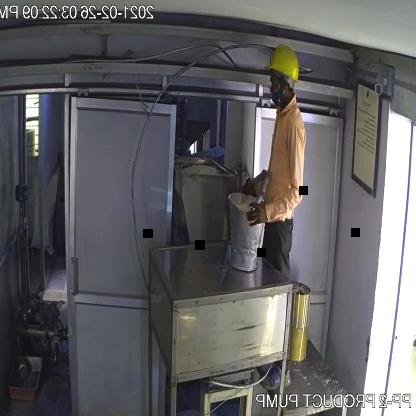helmet: (264, 42, 302, 92)
